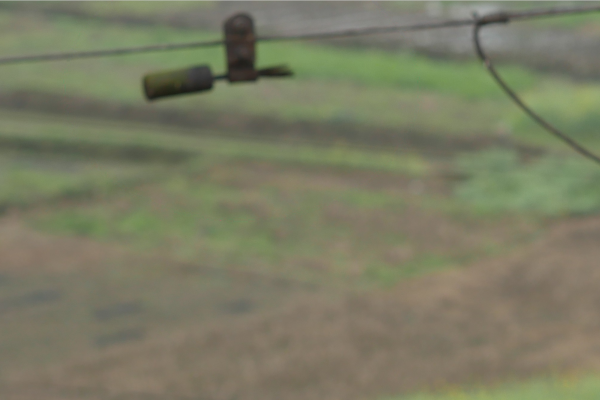damper_defect: (140, 10, 297, 103)
